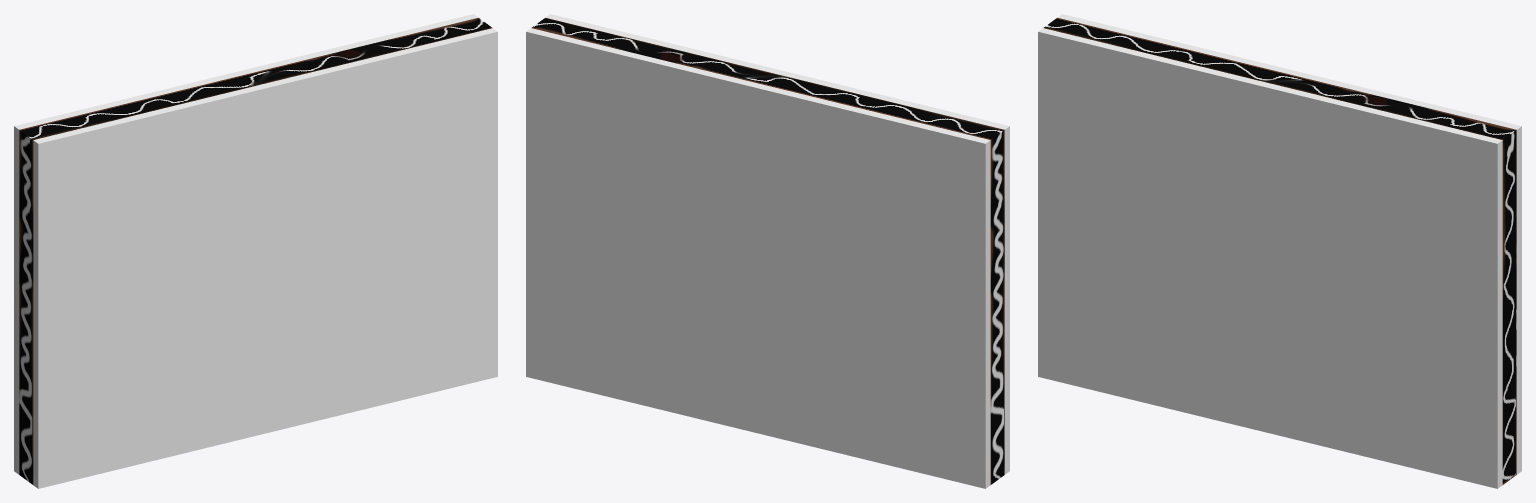
3 views of the same model, side by side, from view 1: azimuth 30°, elevation 25°; view 2: azimuth 150°, elevation 25°; view 3: azimuth 330°, elevation 25° (orthographic).
Parts seen in each view (by area): view 1: Cube.002; view 2: Cube.002; view 3: Cube.002.
Boxes of the visible parts, x1,y1,x2,y2 form: Cube.002: (14,14,497,488); Cube.002: (526,14,1009,488); Cube.002: (1038,14,1521,488).
Bounding box in the file's own units: 14.09 × 10.11 × 1.29.
3 materials, 1 textured.
